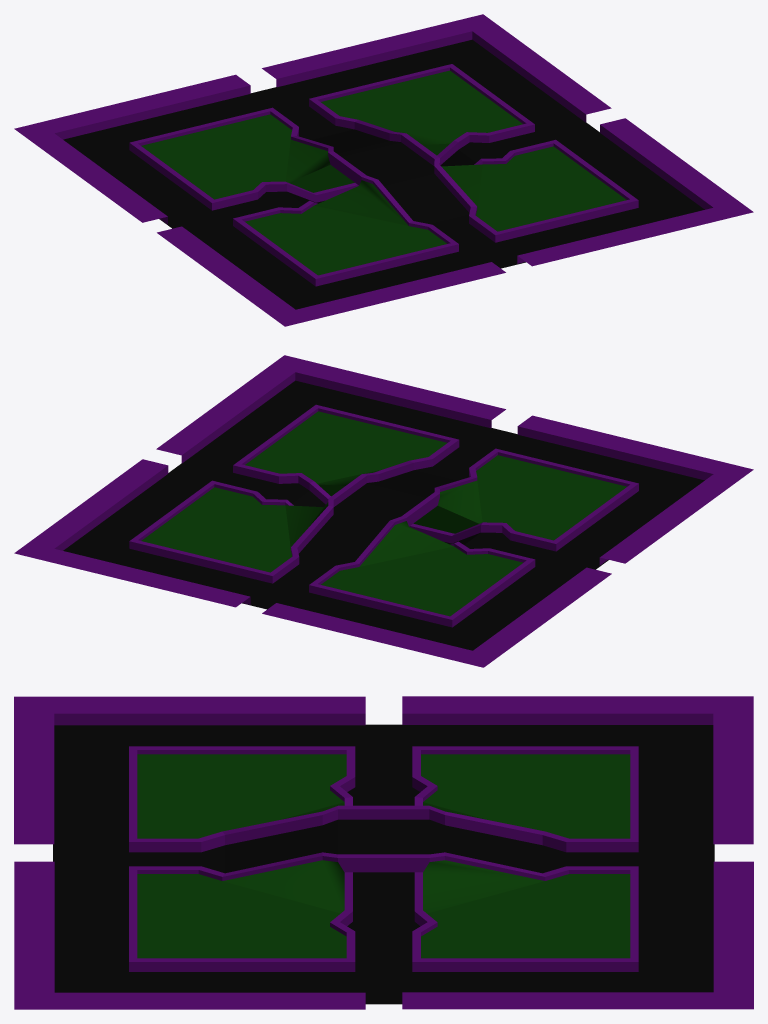
File: Map.glb
3 renders of one model, top to bottom at view 1: azimuth 30°, elevation 25°; view 2: azimuth 150°, elevation 25°; view 3: azimuth 270°, elevation 25°, orthographic. The views are drawn at different scales.
Parts seen in each view (by area): view 1: Cube; view 2: Cube; view 3: Cube.
Boxes of the visible parts, x1,y1,x2,y2 form: Cube: (14,14,753,326); Cube: (14,355,753,667); Cube: (14,696,753,1009).
Size of the model in its own units: 400 by 34.29 by 400.
